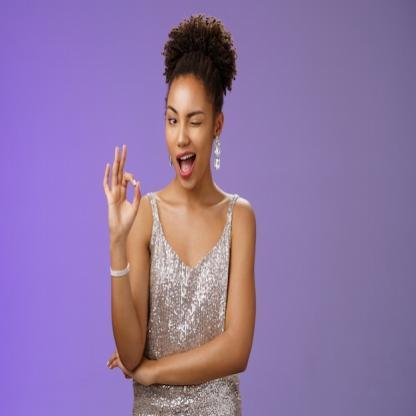ok: (102, 144, 143, 240)
